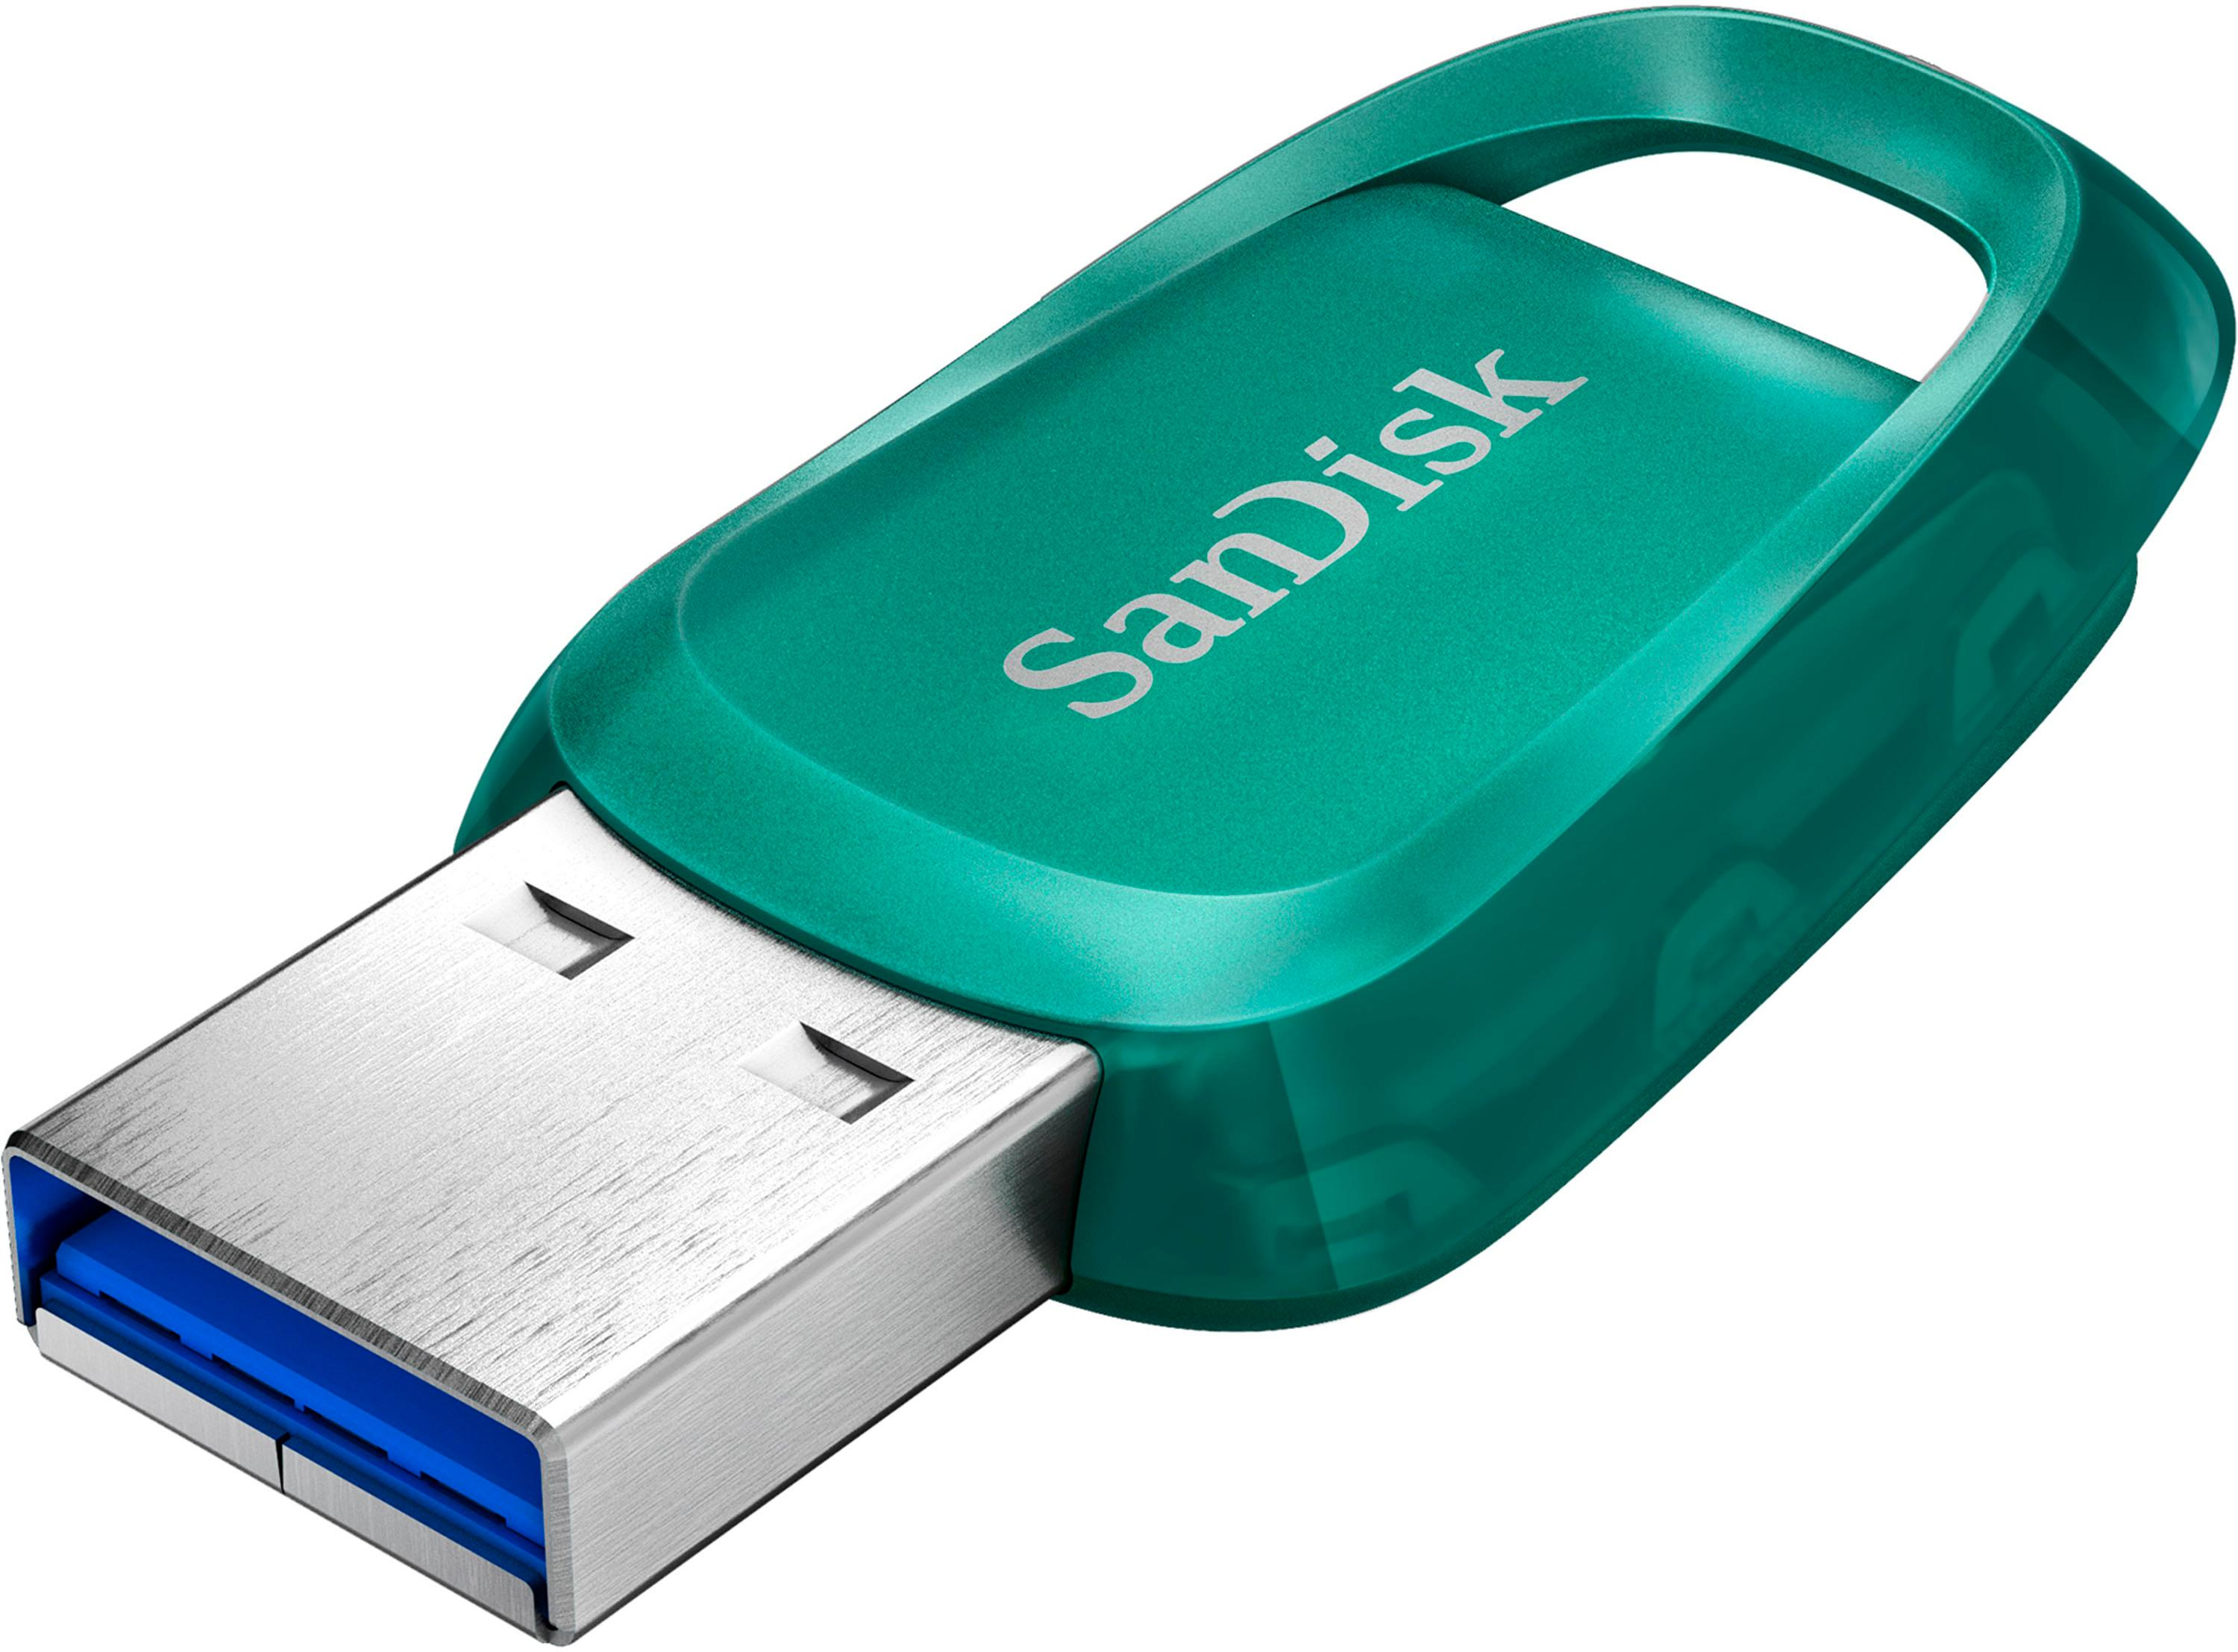USB Flash Drive: (0, 5, 2238, 1650)
